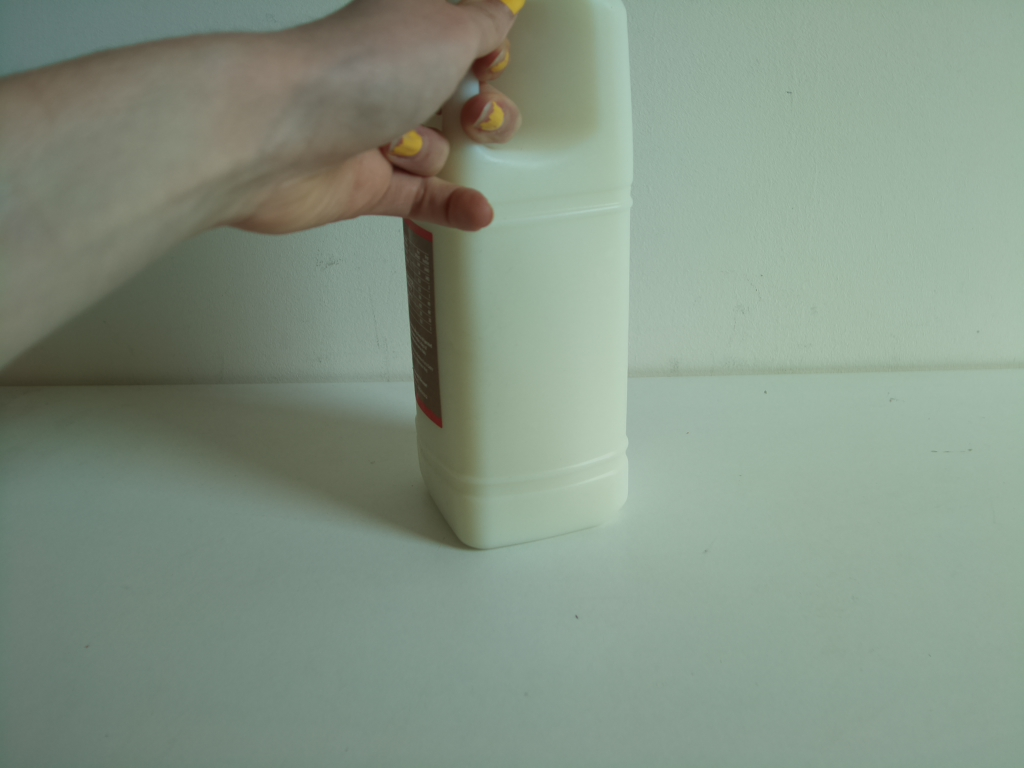milk: (405, 1, 642, 556)
